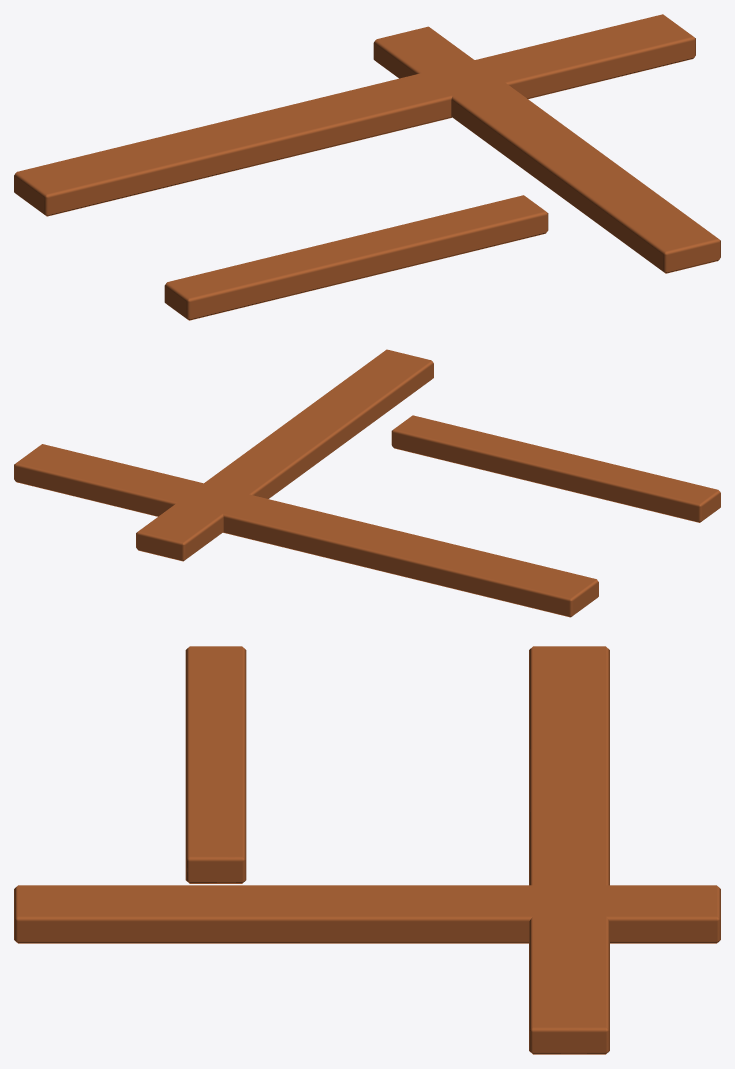
The model's file is crack.51c36cac.glb.
The picture shows the model from 3 angles, top to bottom: view 1: azimuth 30°, elevation 25°; view 2: azimuth 150°, elevation 25°; view 3: azimuth 270°, elevation 25°; orthographic projection. The views are drawn at different scales.
Parts seen in each view (by area): view 1: body; view 2: body; view 3: body.
Boxes of the visible parts, x1,y1,x2,y2 form: body: (14, 14, 720, 320); body: (14, 349, 720, 617); body: (14, 646, 720, 1054).
Bounding box in the file's own units: 0.9 × 0.03 × 0.7.
